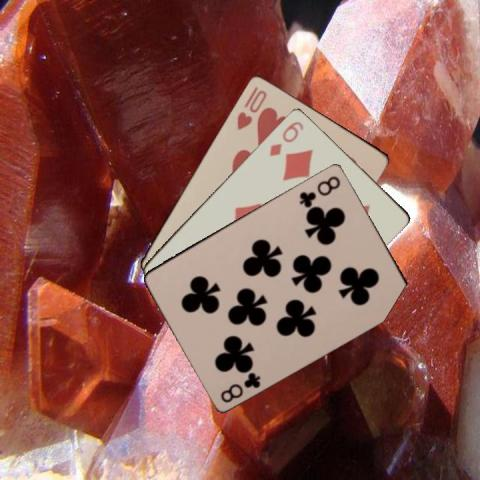10h: (233, 84, 268, 132)
6d: (266, 118, 305, 157)
8c: (296, 172, 342, 208), (217, 369, 262, 404)
